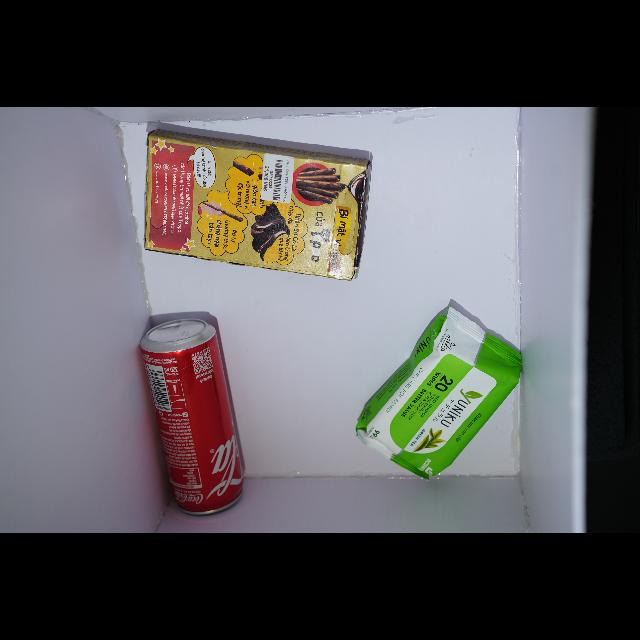banh_toppo_socola: (145, 133, 368, 280)
coca_cola: (140, 319, 243, 515)
khan_giay: (356, 306, 521, 479)
